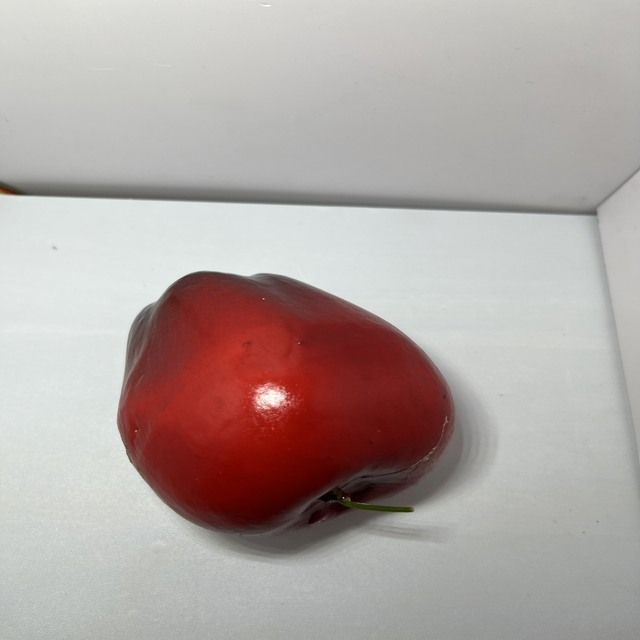Tao: (109, 255, 463, 543)
